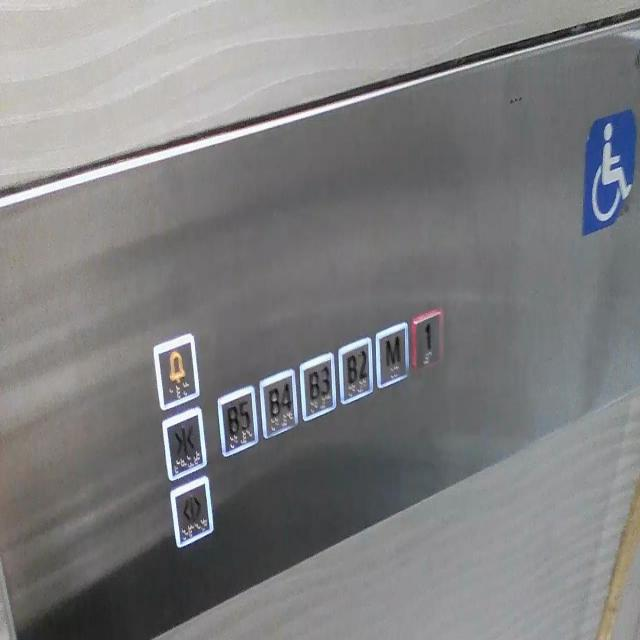1: (408, 303, 447, 378)
B2: (336, 333, 376, 407)
B3: (298, 348, 338, 426)
B4: (256, 362, 300, 442)
B5: (215, 382, 261, 459)
M: (373, 315, 411, 391)
alarm: (148, 328, 204, 412)
close: (160, 405, 208, 488)
open: (167, 470, 215, 553)
